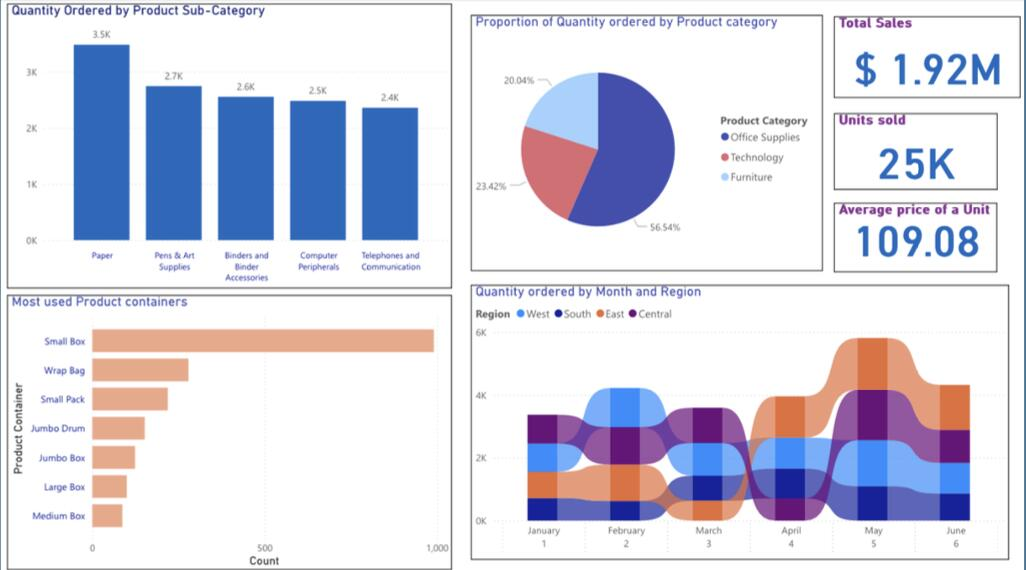

The page's visual inventory and layout, read from the dashboard file:
{"tool":"powerbi","page":{"name":"Page 1","canvas":[1299,727],"ordinal":0},"visuals":[{"type":"clusteredColumnChart","title":"Quantity Ordered by Product Sub-Category","fields":{"Category":["Orders.Product Sub-Category"],"Y":["Sum(Orders.Quantity Ordered)"]},"box":[9.6,3.2,564,361.1],"z":0},{"type":"barChart","title":"Most used Product containers","fields":{"Category":["Orders.Product Container"],"Y":["CountNonNull(Orders.Product Container)","CountNonNull(Orders.Product Container)"]},"box":[9.5,371.5,564.1,348.5],"z":1000},{"type":"pieChart","title":"Proportion of Quantity ordered by Product category","fields":{"Category":["Orders.Product Category"],"Y":["Divide(Sum(Orders.Quantity Ordered), ScopedEval(Sum(Orders.Quantity Ordered), []))"]},"box":[597.4,17.9,446.2,324.4],"z":3000},{"type":"card","title":"Total Sales","fields":{"Values":["Sum(Orders.Sales)"]},"box":[1057,19.9,236.7,103.7],"z":4000},{"type":"card","title":"Units sold","fields":{"Values":["Sum(Orders.Quantity Ordered)"]},"box":[1057,142.3,207.4,97.1],"z":5000},{"type":"ribbonChart","title":"Quantity ordered by Month and Region","fields":{"Y":["Sum(Orders.Quantity Ordered)"],"Category":["Orders.Month_Number","Orders.Month"],"Series":["Orders.Region"]},"box":[597.4,360.3,682.1,348.7],"z":6000},{"type":"card","title":"Average price of a Unit","fields":{"Values":["Avg(Orders.Unit Price)"]},"box":[1057.3,255.5,207,87.8],"z":8000}]}

Visuals, with their boxes in screenshot pixels (x1, y1, x2, y2), scaled from the page's 1299x727 canvas onto the 1026x570 screenshot:
"Quantity Ordered by Product Sub-Category" clusteredColumnChart: <box>8,3,453,286</box>
"Most used Product containers" barChart: <box>8,291,453,565</box>
"Proportion of Quantity ordered by Product category" pieChart: <box>472,14,824,268</box>
"Total Sales" card: <box>835,16,1022,97</box>
"Units sold" card: <box>835,112,999,188</box>
"Quantity ordered by Month and Region" ribbonChart: <box>472,282,1011,556</box>
"Average price of a Unit" card: <box>835,200,999,269</box>
